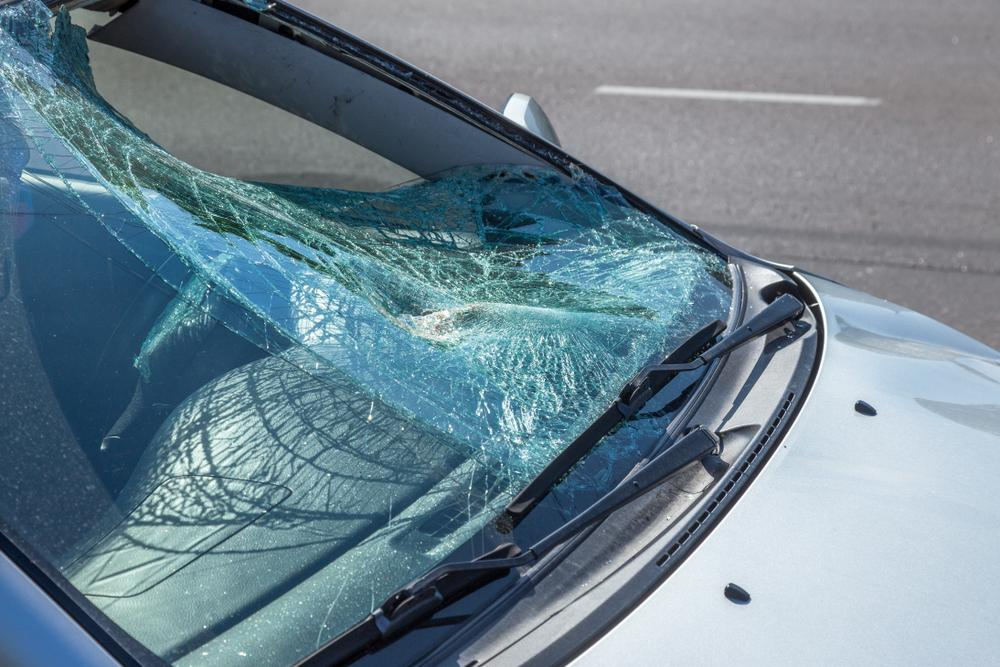glass shatter: (0, 0, 734, 667)
